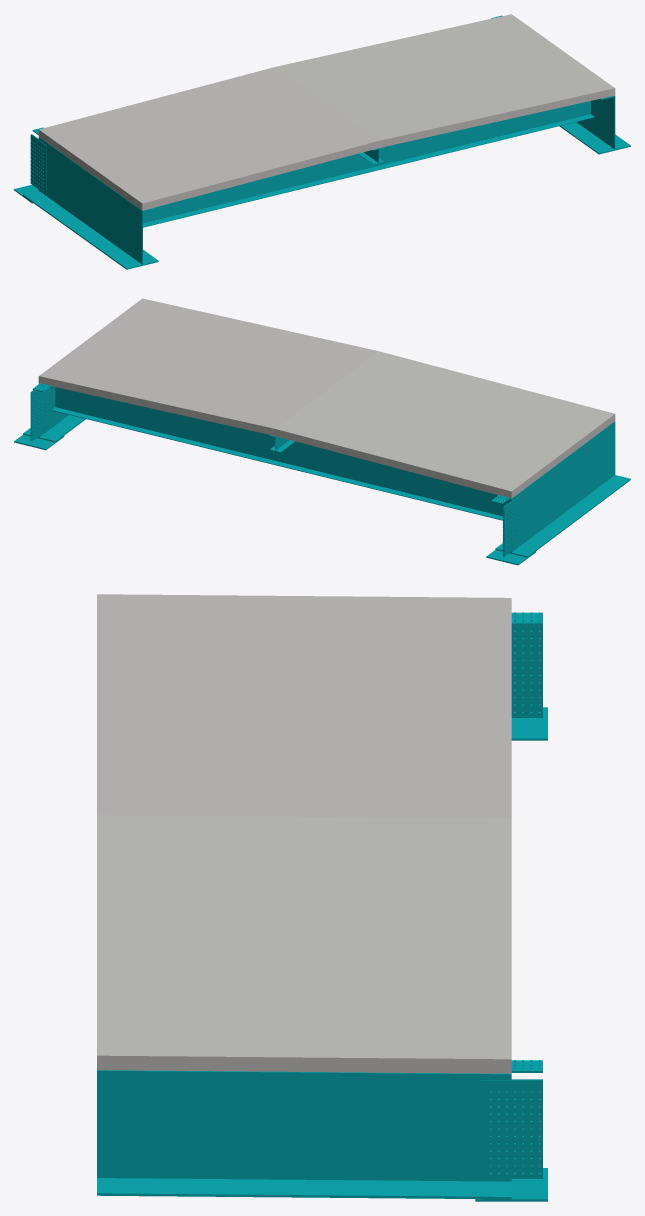
Rendered from DECK_SN01.glb.
3 renders of one model, top to bottom at view 1: azimuth 30°, elevation 25°; view 2: azimuth 150°, elevation 25°; view 3: azimuth 270°, elevation 25°, orthographic. The views are drawn at different scales.
Visible parts, largest first — view 1: SN01_Slab_11, SN01_G_W_0, SN01_FB_web_7, SN01_FB_bf_10, SN01_G_E_1, SN01_SpliceW_13; view 2: SN01_Slab_11, SN01_FB_web_3, SN01_G_W_0, SN01_FB_bf_6, SN01_G_E_1, SN01_SpliceW_13, SN01_SpliceW_21; view 3: SN01_Slab_11, SN01_G_E_1, SN01_SpliceW_22, SN01_SpliceW_14, SN01_SpliceB_23, SN01_SpliceB_15.
Part boxes in pixels (x1,y1,x2,y2): SN01_Slab_11: [38, 14, 615, 210]; SN01_G_W_0: [23, 137, 158, 269]; SN01_FB_web_7: [143, 101, 590, 223]; SN01_FB_bf_10: [143, 114, 594, 227]; SN01_G_E_1: [559, 95, 630, 154]; SN01_SpliceW_13: [30, 134, 46, 194]; SN01_Slab_11: [38, 298, 615, 498]; SN01_FB_web_3: [55, 387, 510, 516]; SN01_G_W_0: [495, 421, 630, 557]; SN01_FB_bf_6: [51, 407, 502, 520]; SN01_G_E_1: [23, 383, 85, 442]; SN01_SpliceW_13: [503, 496, 519, 556]; SN01_SpliceW_21: [31, 389, 47, 441]; SN01_Slab_11: [97, 594, 511, 1073]; SN01_G_E_1: [97, 1070, 511, 1199]; SN01_SpliceW_22: [480, 1080, 542, 1178]; SN01_SpliceW_14: [511, 625, 542, 717]; SN01_SpliceB_23: [475, 1168, 547, 1201]; SN01_SpliceB_15: [511, 707, 547, 740].
Bounding box in the file's own units: 18.26 × 2.46 × 7.07.
